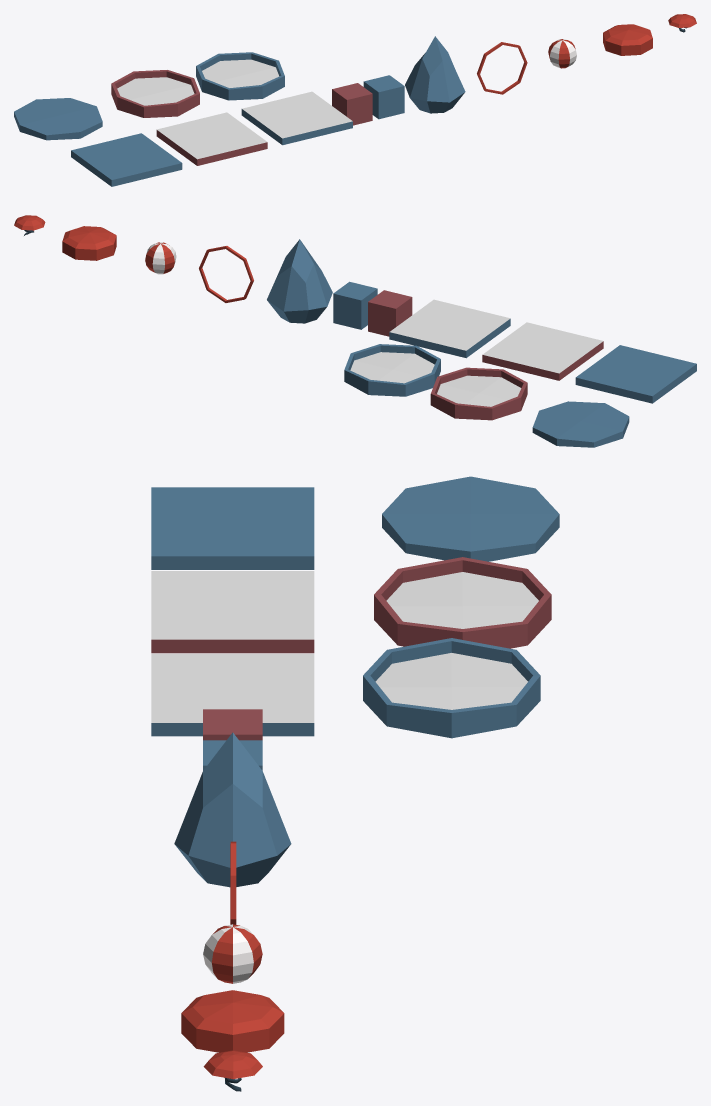
Rendered from RollingBall.fbx.
3 renders of one model, top to bottom at view 1: azimuth 30°, elevation 25°; view 2: azimuth 150°, elevation 25°; view 3: azimuth 270°, elevation 25°, orthographic. The views are drawn at different scales.
Parts seen in each view (by area): view 1: Suelo1, Suelo2, Suelo3, Plataforma1, Plataforma2, Plataforma3, Bloque de hielo, Boton, Borde1, Borde2, Pelota, Aro (+1 smaller); view 2: Suelo3, Suelo1, Suelo2, Plataforma2, Plataforma1, Plataforma3, Bloque de hielo, Boton, Borde1, Borde2, Pelota, Aro (+1 smaller); view 3: Plataforma1, Suelo3, Suelo2, Plataforma2, Suelo1, Plataforma3, Bloque de hielo, Boton, Pelota, Borde2, Rebotador.
Part boxes in pixels (box(x1,y1,x2,y2)): Suelo1: box(241, 91, 352, 145); Suelo2: box(156, 112, 267, 165); Suelo3: box(71, 133, 182, 186); Plataforma1: box(196, 52, 284, 100); Plataforma2: box(111, 70, 199, 117); Plataforma3: box(14, 98, 102, 140); Bloque de hielo: box(405, 36, 465, 113); Boton: box(603, 24, 652, 55); Borde1: box(363, 75, 404, 119); Borde2: box(332, 83, 372, 125); Pelota: box(548, 39, 576, 68); Aro: box(477, 42, 527, 94); Suelo3: box(575, 345, 696, 403); Suelo1: box(389, 299, 510, 358); Suelo2: box(482, 322, 603, 380); Plataforma2: box(430, 367, 527, 420); Plataforma1: box(344, 344, 440, 396); Plataforma3: box(532, 401, 629, 447); Bloque de hielo: box(267, 239, 332, 323); Boton: box(62, 226, 116, 260); Borde1: box(333, 281, 377, 329); Borde2: box(368, 290, 412, 336); Pelota: box(145, 242, 176, 274); Aro: box(199, 246, 253, 302); Plataforma1: box(363, 638, 540, 738); Suelo3: box(151, 487, 314, 569); Suelo2: box(151, 571, 314, 653); Plataforma2: box(374, 557, 551, 648); Suelo1: box(151, 654, 314, 736); Plataforma3: box(382, 476, 559, 561); Bloque de hielo: box(174, 732, 291, 887); Boton: box(181, 990, 284, 1052); Pelota: box(203, 924, 262, 983); Borde2: box(203, 709, 262, 740); Rebotador: box(203, 1050, 262, 1091).
Bounding box in the file's own units: 4773 × 552 × 1369.
